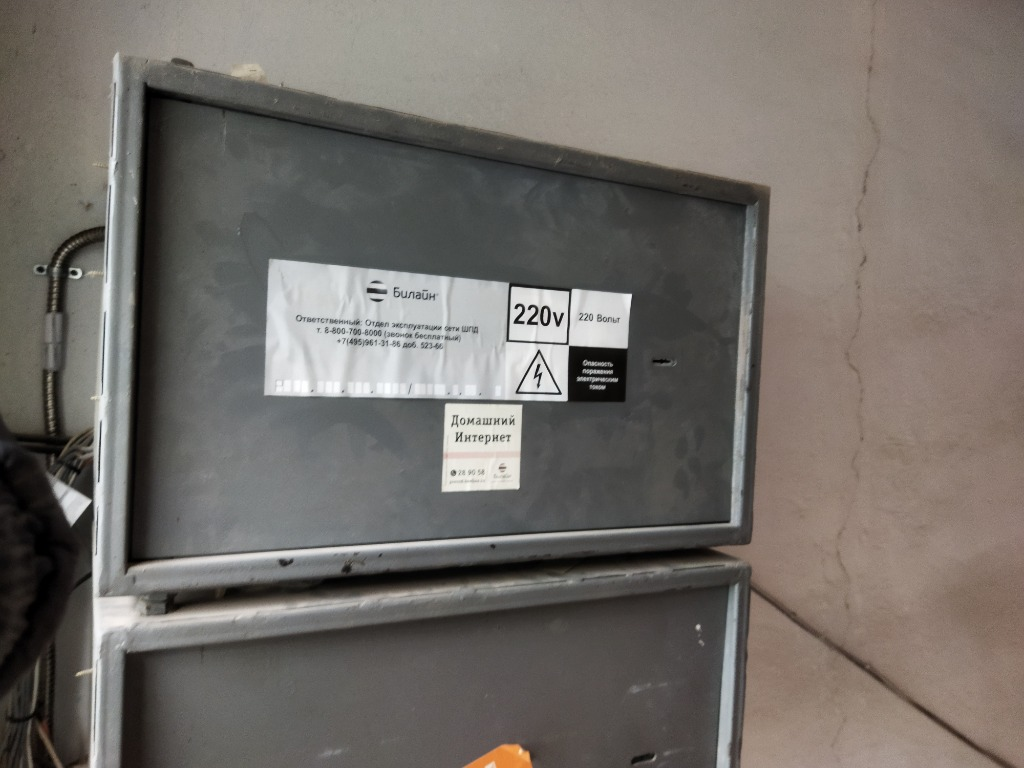e2-6u: (84, 46, 778, 600)
